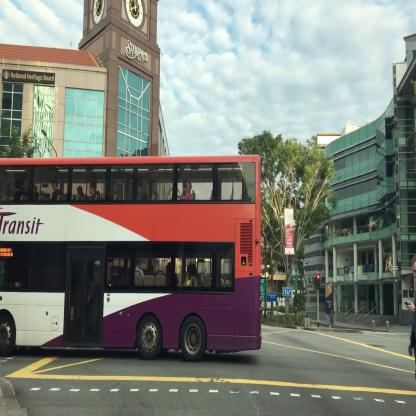red_traffic_light: (316, 273, 320, 288)
